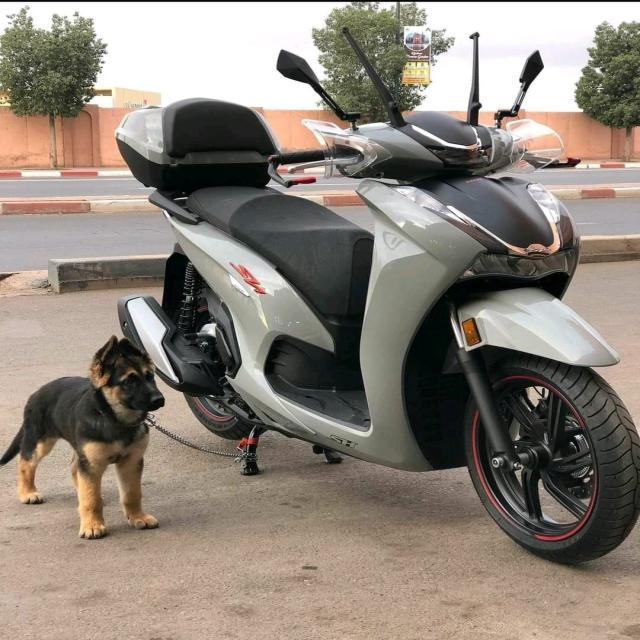Motorcycle: (114, 31, 638, 563)
Tree: (0, 7, 106, 169), (577, 20, 640, 160)
